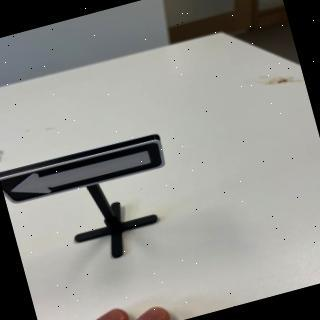sign_oneway_left: (1, 127, 176, 214)
